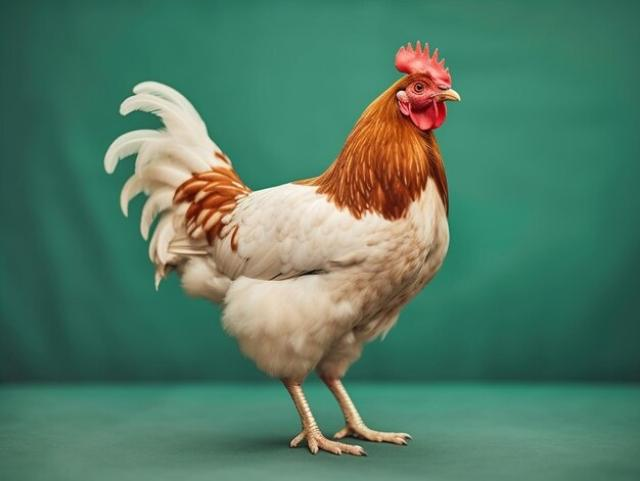Chicken: (103, 40, 462, 456)
